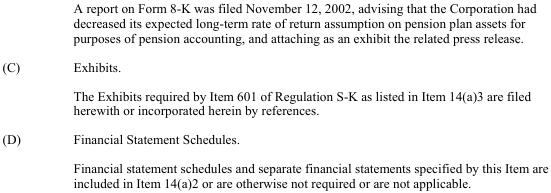table: (1, 0, 547, 189)
table column: (46, 0, 547, 189), (1, 0, 46, 189)
table column header: (1, 0, 547, 51)
table row: (1, 0, 547, 51), (1, 80, 547, 124), (1, 153, 547, 189), (1, 51, 547, 80), (1, 124, 547, 153)
table spanning cell: (1, 51, 46, 124), (1, 124, 46, 189)
